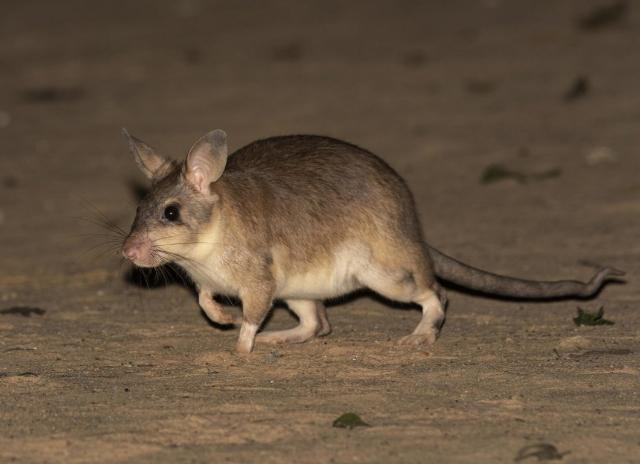rat: (104, 104, 544, 366)
